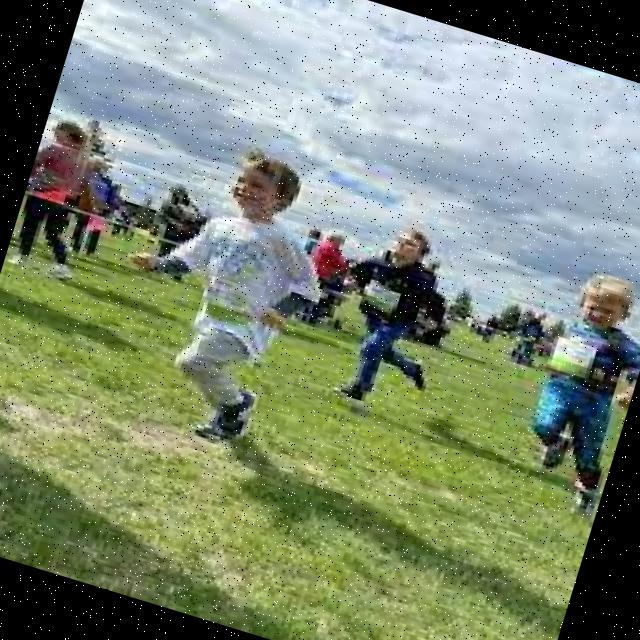Person: (82, 122, 353, 458), (511, 266, 640, 517), (318, 216, 467, 418)
